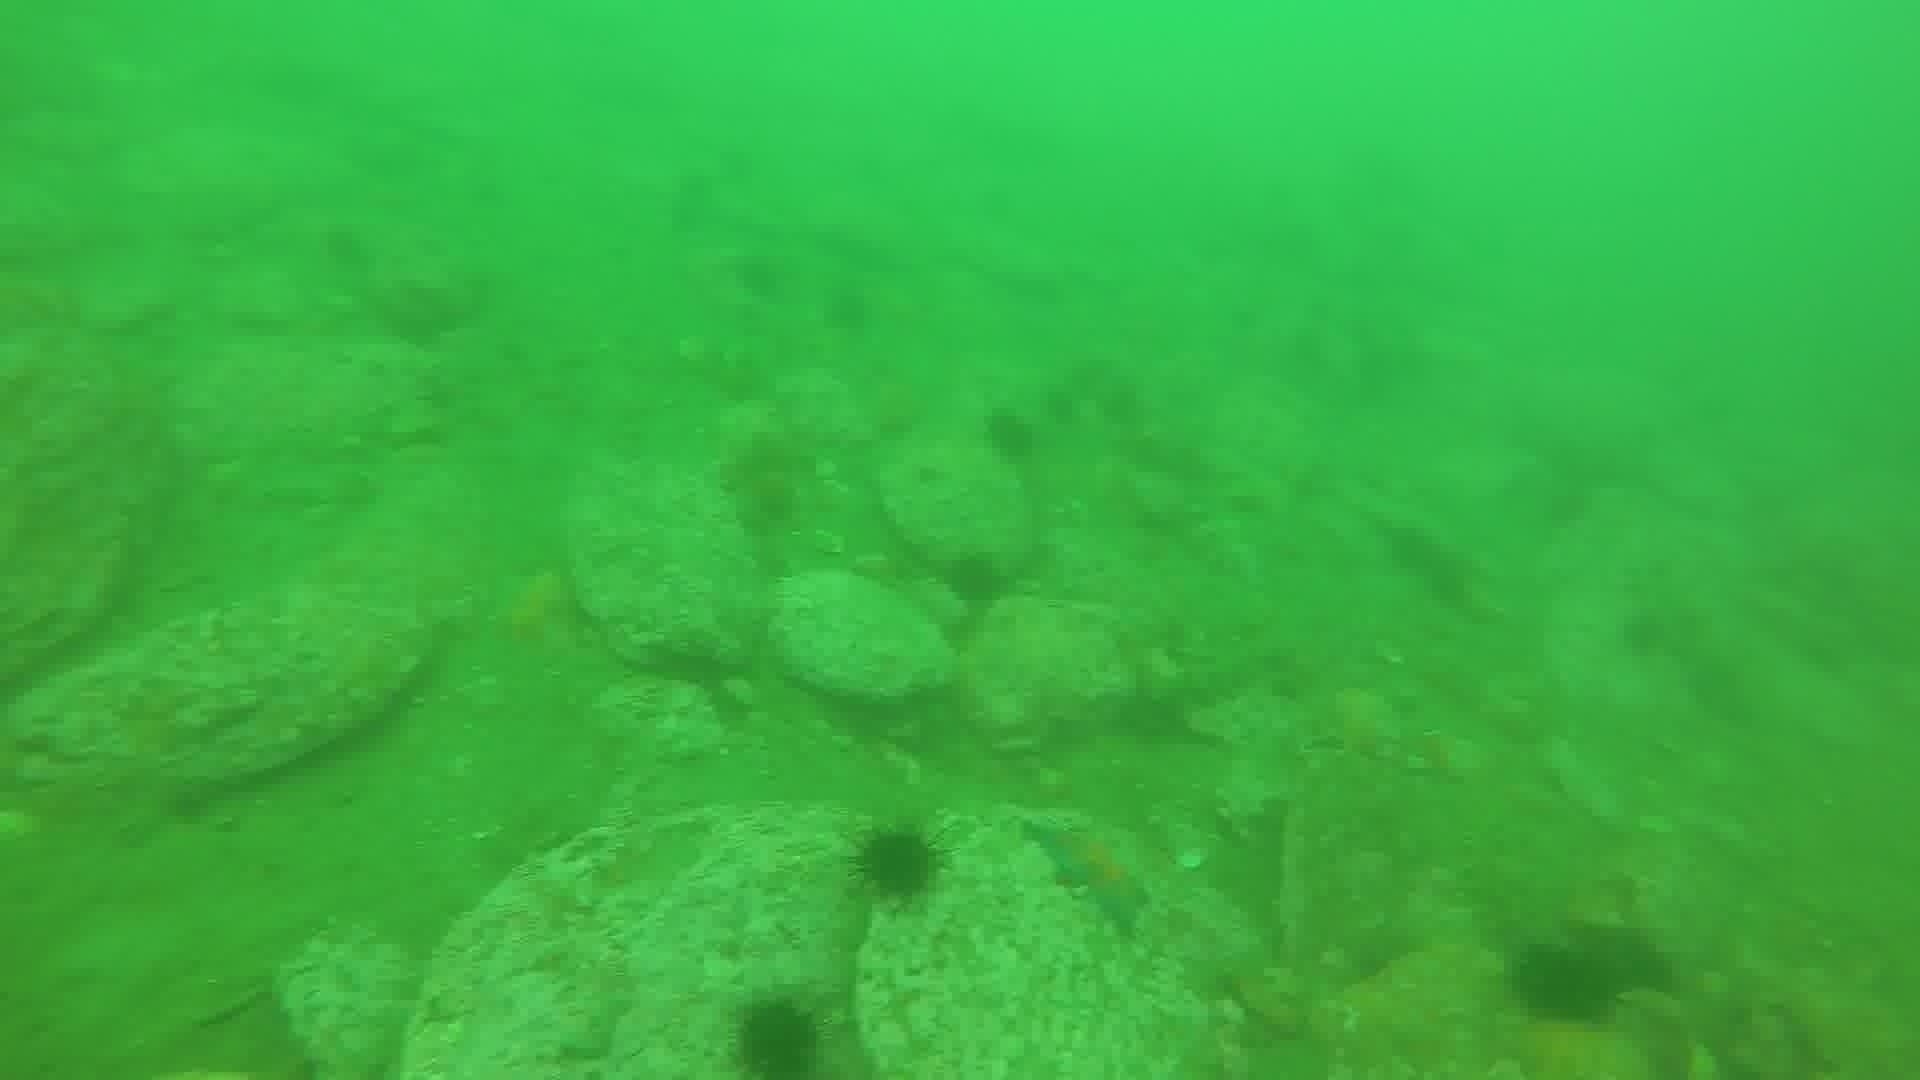echinus: (1507, 936, 1623, 1029), (1564, 918, 1677, 1007), (849, 822, 947, 907), (727, 993, 828, 1075), (938, 547, 1011, 613), (712, 237, 778, 301), (1418, 549, 1484, 612), (978, 404, 1044, 465), (811, 280, 877, 342), (1371, 512, 1437, 574), (1614, 605, 1673, 663)
starfish: (1021, 808, 1158, 931)
